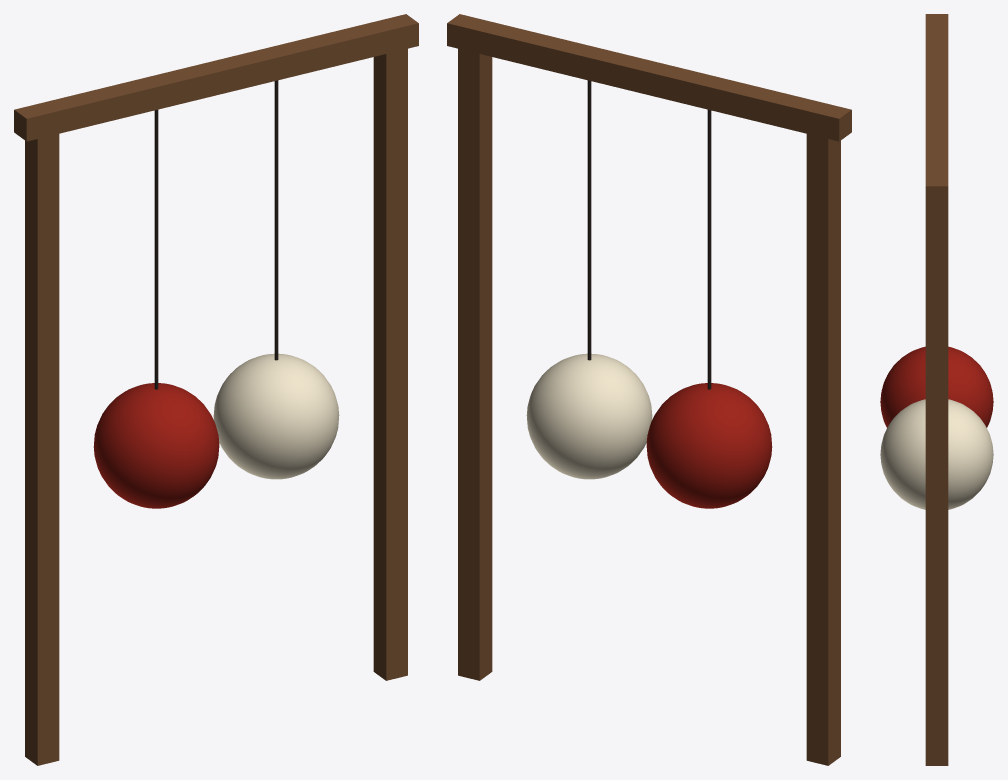
File: pendules.obj
3 views of the same model, side by side, from view 1: azimuth 30°, elevation 25°; view 2: azimuth 150°, elevation 25°; view 3: azimuth 270°, elevation 25° (orthographic). The views are drawn at different scales.
Visible parts, largest first — view 1: potence, boule_mate, boule_brillante, ficelle_brillante, ficelle_mate; view 2: potence, boule_mate, boule_brillante, ficelle_brillante, ficelle_mate; view 3: potence, boule_brillante, boule_mate.
Part boxes in pixels (x1,y1,x2,y2): potence: [14, 14, 418, 765]; boule_mate: [93, 383, 219, 508]; boule_brillante: [213, 353, 339, 479]; ficelle_brillante: [274, 80, 278, 360]; ficelle_mate: [154, 109, 158, 389]; potence: [447, 14, 851, 765]; boule_mate: [646, 383, 772, 508]; boule_brillante: [526, 353, 652, 479]; ficelle_brillante: [587, 80, 591, 360]; ficelle_mate: [707, 109, 711, 389]; potence: [925, 14, 948, 765]; boule_brillante: [880, 399, 993, 509]; boule_mate: [880, 346, 993, 427].
Size of the model in its own units: 0.36 by 0.57 by 0.1.
